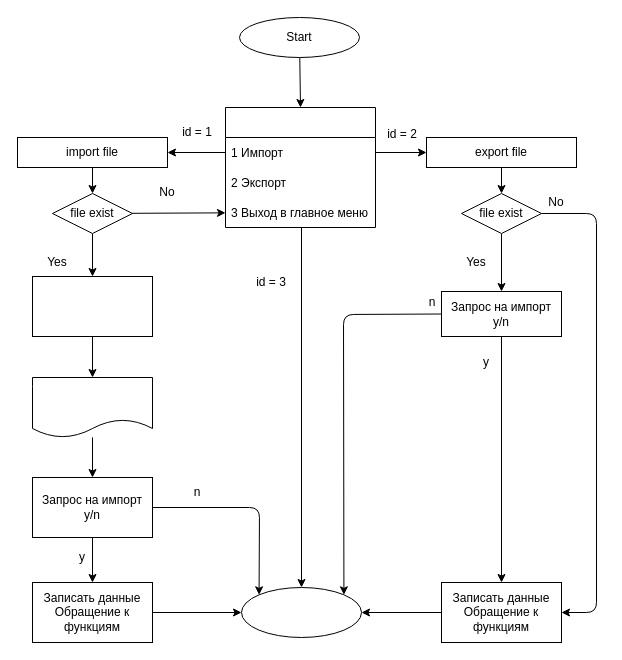
This 622x660 diagram has some shape labels left out. The shapes that lost their labels are listed below. From the top down, each one's box as (x1, y1, x2, y2) in pixels, then its label:
(224, 106, 376, 228): Запрос пользователю
(32, 276, 152, 336): Прочитать данные Обращение к функциям
(32, 376, 152, 438): Показать импортируемые данные
(240, 586, 362, 638): Exit
